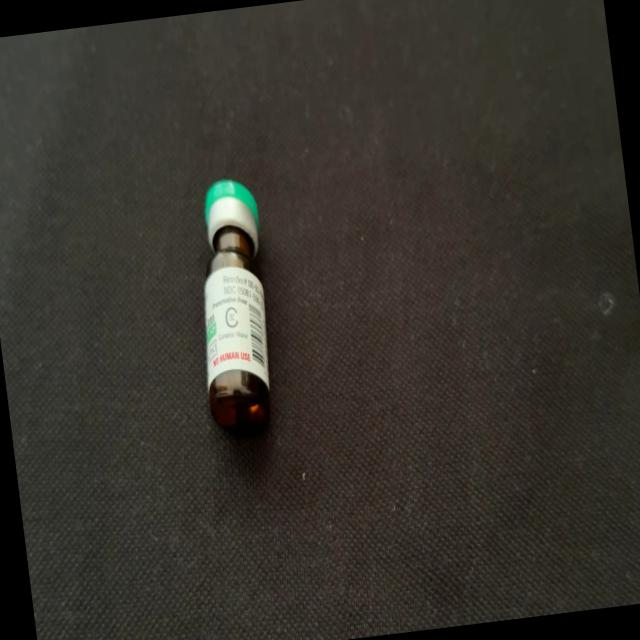midazolm: (183, 180, 283, 433)
